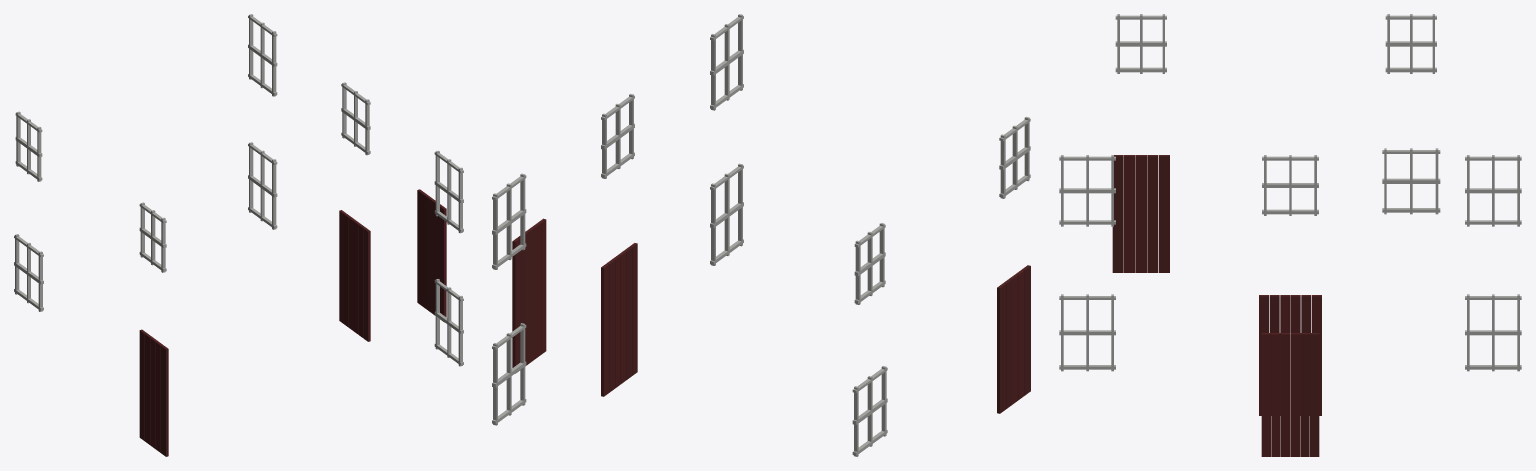
Rendered from SM_Bld_108_Wood.glb.
3 renders of one model, left to right at view 1: azimuth 30°, elevation 25°; view 2: azimuth 150°, elevation 25°; view 3: azimuth 270°, elevation 25°, orthographic. The views are drawn at different scales.
Parts seen in each view (by area): view 1: SM_Bld_108_Wood; view 2: SM_Bld_108_Wood; view 3: SM_Bld_108_Wood.
Boxes of the visible parts, x1=… form: SM_Bld_108_Wood: x1=14, y1=14, x2=463, y2=456; SM_Bld_108_Wood: x1=492, y1=14, x2=1030, y2=456; SM_Bld_108_Wood: x1=1059, y1=14, x2=1521, y2=456.
Bounding box in the file's own units: 6.82 × 4.45 × 7.18.
